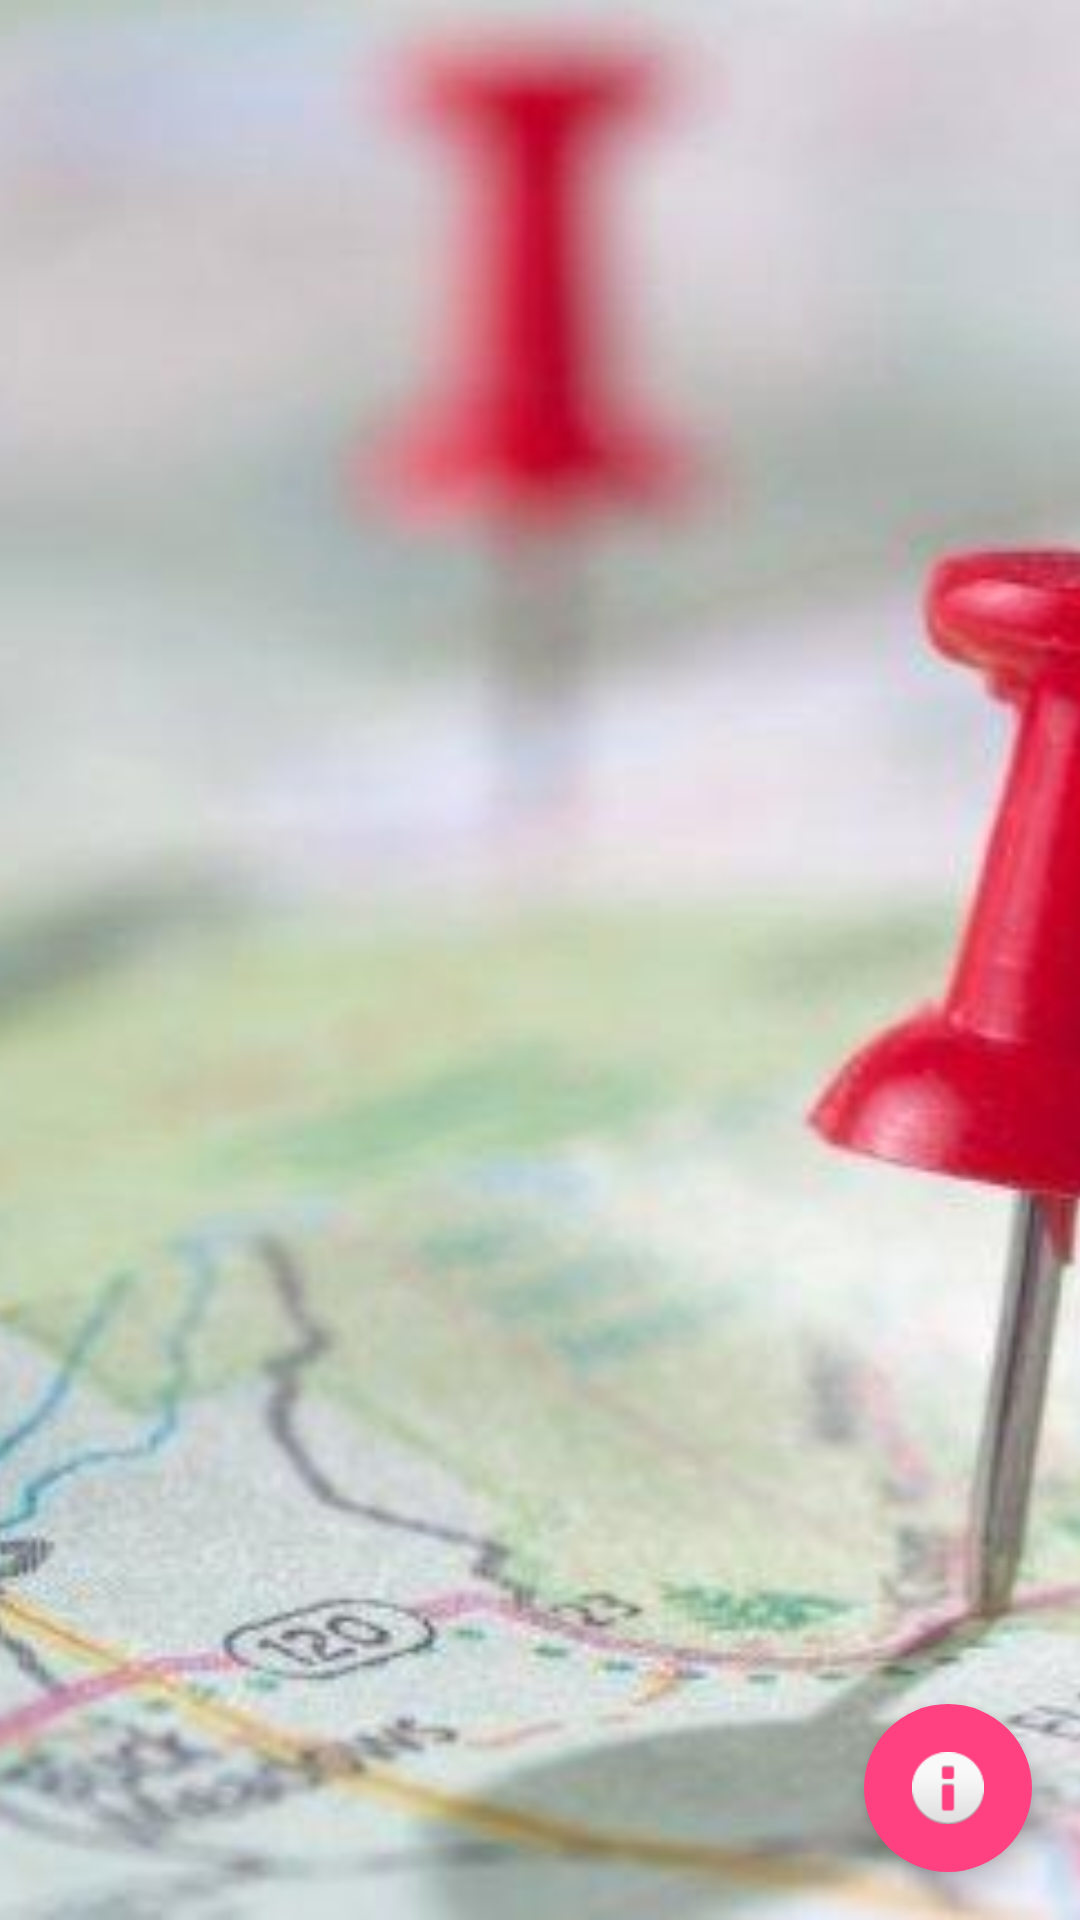

Icon click points for this 1080x1920 phone screenshot, format point (x, y):
info: point (948, 1788)
